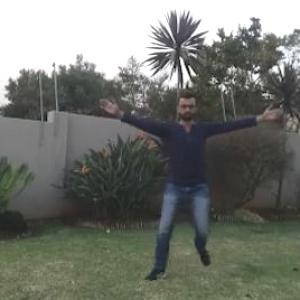takeoff: (100, 100, 288, 276)
